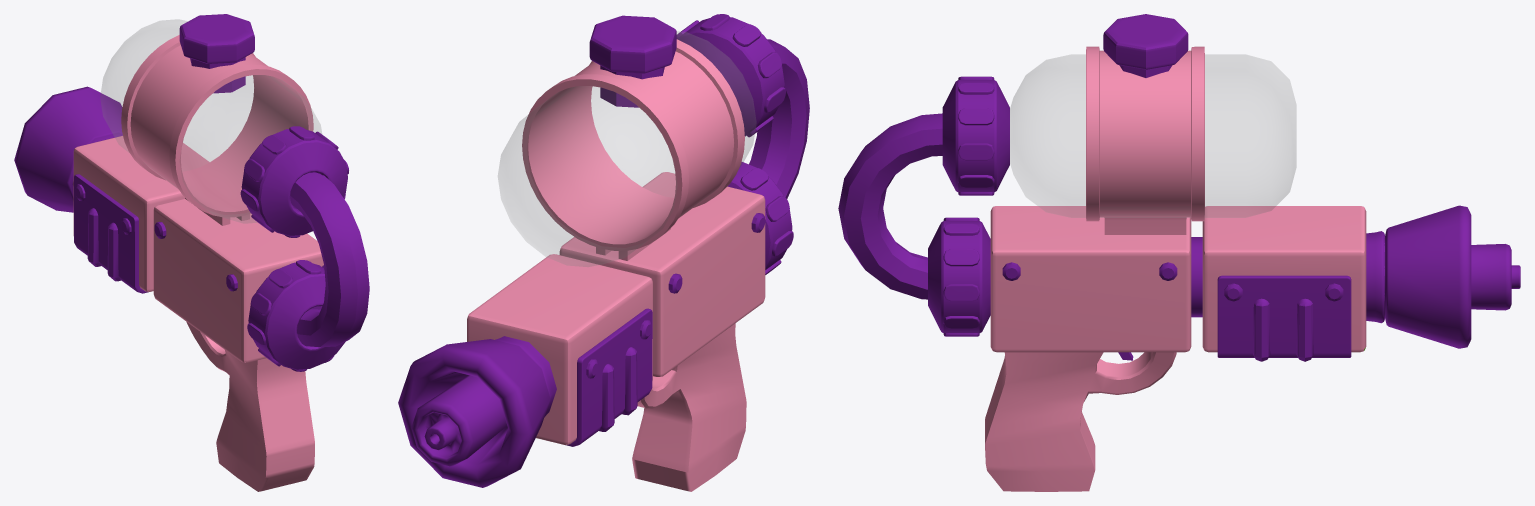
Rendered from watergun 1.fbx.
3 views of the same model, side by side, from view 1: azimuth 30°, elevation 25°; view 2: azimuth 150°, elevation 25°; view 3: azimuth 270°, elevation 25° (orthographic). The views are drawn at different scales.
Parts seen in each view (by area): view 1: polySurface65; view 2: polySurface65; view 3: polySurface65.
Part boxes in pixels (bbox=[...]): polySurface65: bbox=[14, 14, 369, 491]; polySurface65: bbox=[398, 14, 809, 491]; polySurface65: bbox=[838, 14, 1520, 491].
Size of the model in its own units: 8.41 by 23.83 by 32.84.
